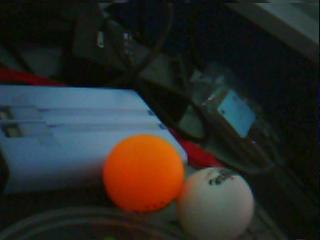oball: (102, 134, 183, 215)
